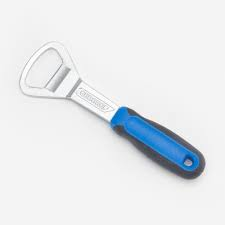bottleopener: (18, 41, 207, 180)
